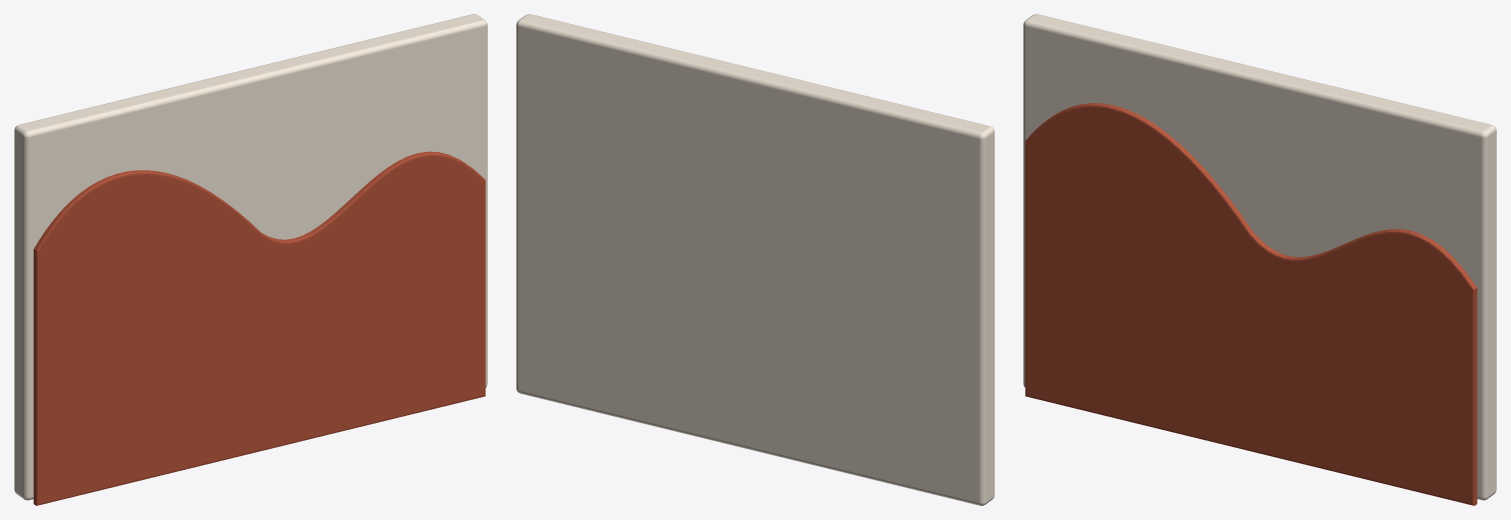
File: wave-wall.glb
3 renders of one model, left to right at view 1: azimuth 30°, elevation 25°; view 2: azimuth 150°, elevation 25°; view 3: azimuth 330°, elevation 25°, orthographic.
Parts seen in each view (by area): view 1: surface-b5543a, surface-#F0E6D8,0,0.7; view 2: surface-#F0E6D8,0,0.7; view 3: surface-b5543a, surface-#F0E6D8,0,0.7.
Part boxes in pixels (x1,y1,x2,y2): surface-b5543a: (33, 151, 485, 505); surface-#F0E6D8,0,0.7: (14, 14, 487, 500); surface-#F0E6D8,0,0.7: (516, 14, 994, 505); surface-b5543a: (1025, 103, 1477, 505); surface-#F0E6D8,0,0.7: (1023, 14, 1496, 500).
Bounding box in the file's own units: 2.5 × 1.91 × 0.159.
